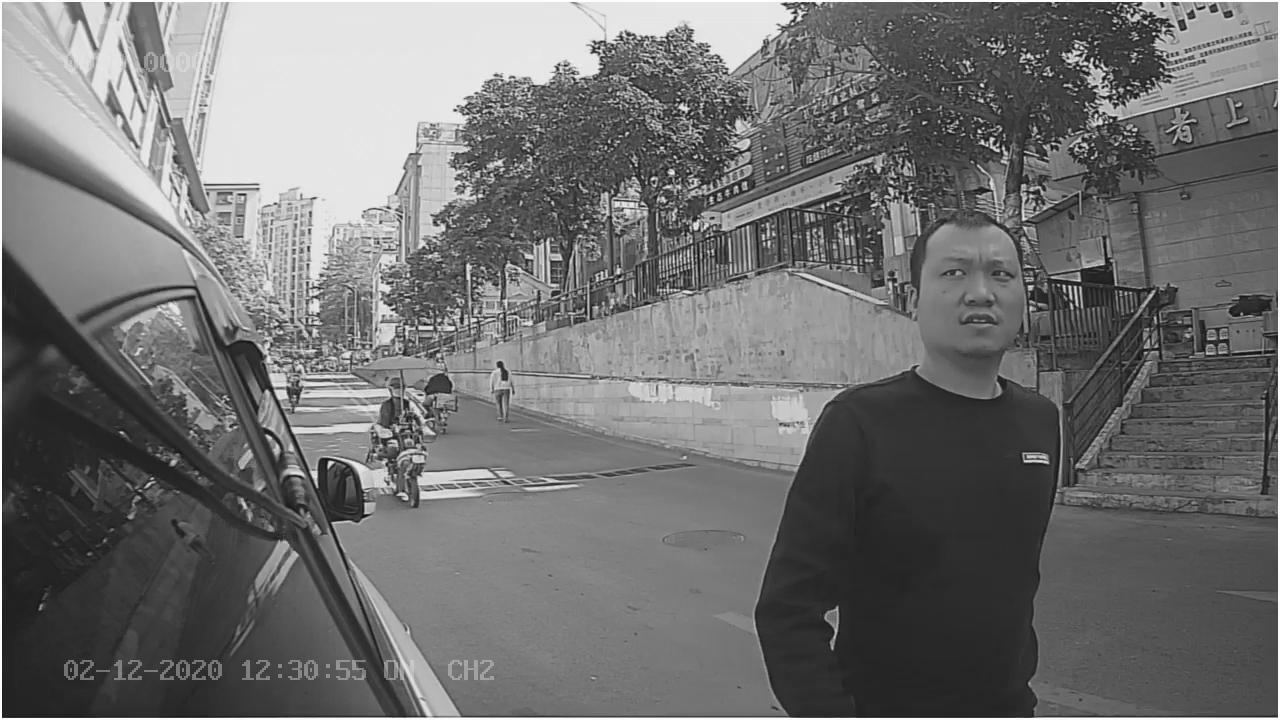person: (762, 192, 1066, 603)
